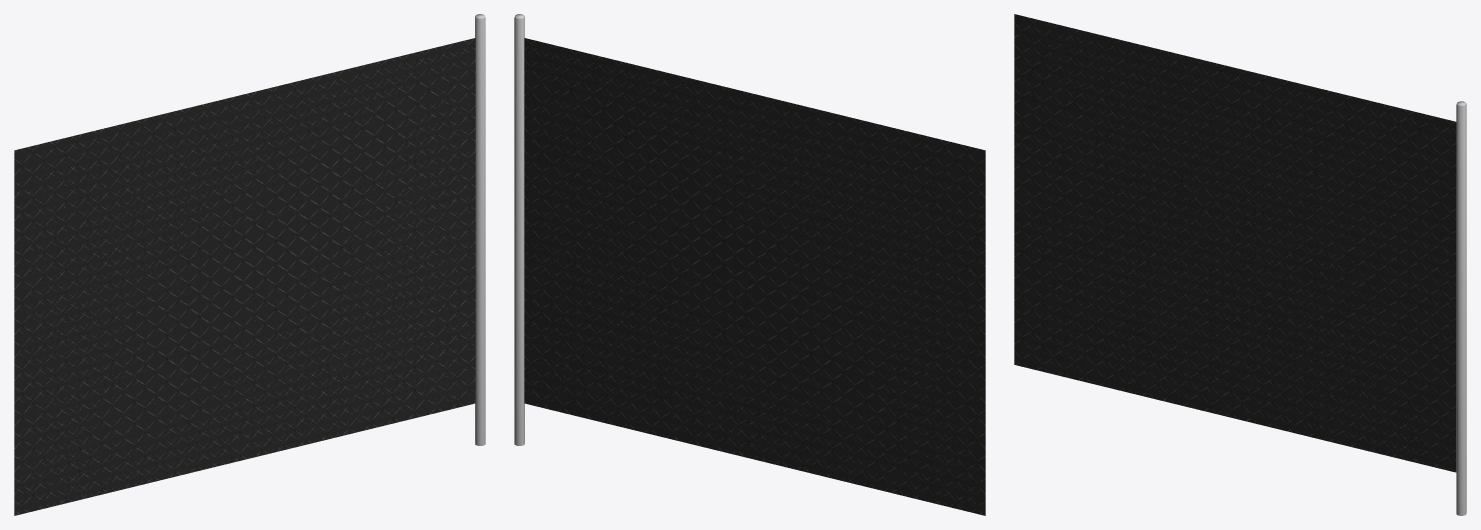
File: Wire_fence1.fbx
The picture shows the model from 3 angles, left to right: view 1: azimuth 30°, elevation 25°; view 2: azimuth 150°, elevation 25°; view 3: azimuth 330°, elevation 25°; orthographic projection. The views are drawn at different scales.
Visible parts, largest first — view 1: polySurface943; view 2: polySurface943; view 3: polySurface943.
Part boxes in pixels (x1,y1,x2,y2): polySurface943: [14, 14, 485, 515]; polySurface943: [514, 14, 985, 515]; polySurface943: [1014, 14, 1466, 515].
Size of the model in its own units: 4.04 by 3.51 by 0.081.
